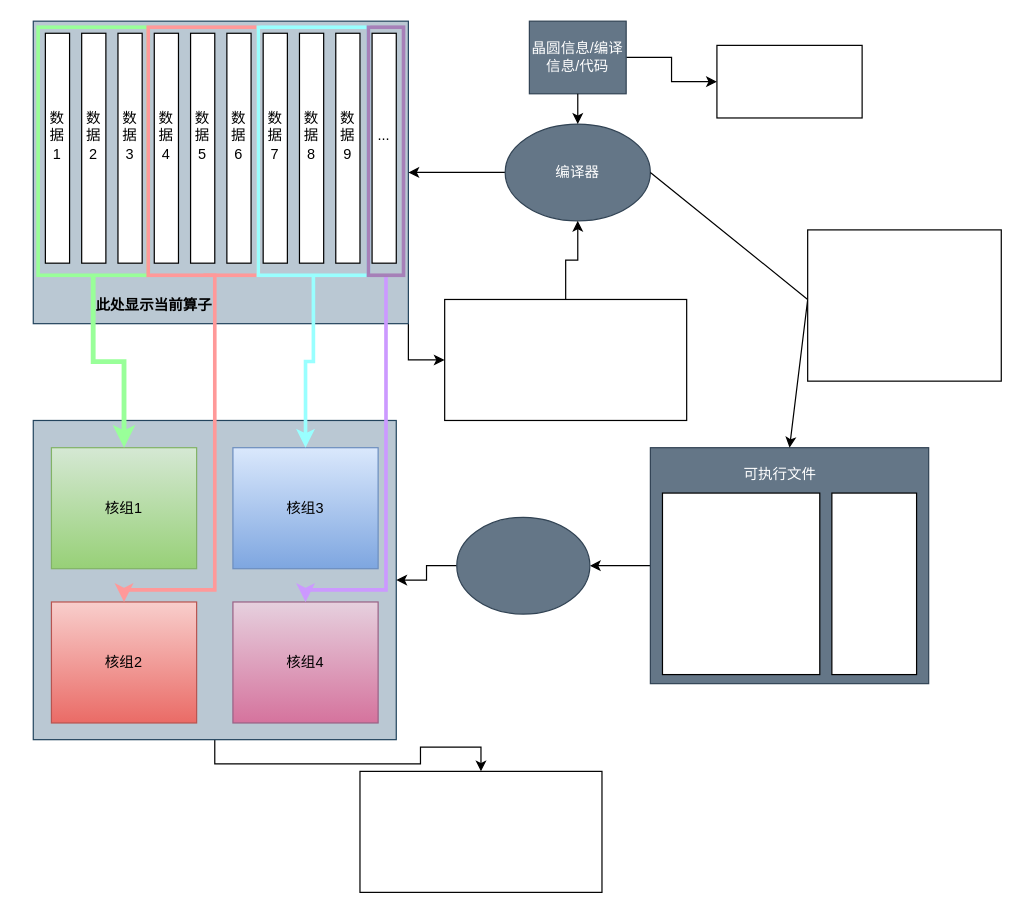
Some shapes in this 1022 by 914 pixel diagram are drawn without their labels. Each missing label, with the centre of its shape:
"CPU 主控程序" belongs at pixel 740 583.
"GPU PTX 文件" belongs at pixel 874 583.
"加载程序" belongs at pixel 523 565.
"此处也根据课题三信息显示当前晶圆状态，并根据编译器提供的划分信息，将上面的数据组表示和下面的核组表示相连" belongs at pixel 480 831.
"由用户和其他课题提供的文件" belongs at pixel 789 81.
"编译器之后提供更多编译输出，可以在生成可执行文件的过程中输出当前编译的更多进程状态。" belongs at pixel 903 305.
"编译器尝试解析数据和算子之后，提供当前的划分，这里的输入显示根据提供的信息显示当前的算子选择和数据划分的组别。（最好能显示所有算子，然后高亮当前选中的算子）" belongs at pixel 565 359.
